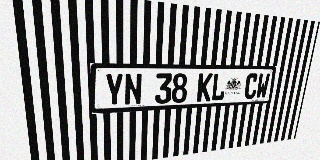3: (155, 73, 172, 104)
8: (171, 73, 188, 103)
C: (243, 73, 259, 99)
K: (196, 73, 213, 102)
L: (211, 73, 227, 101)
N: (124, 73, 142, 105)
W: (255, 73, 270, 99)
Y: (104, 73, 123, 106)
